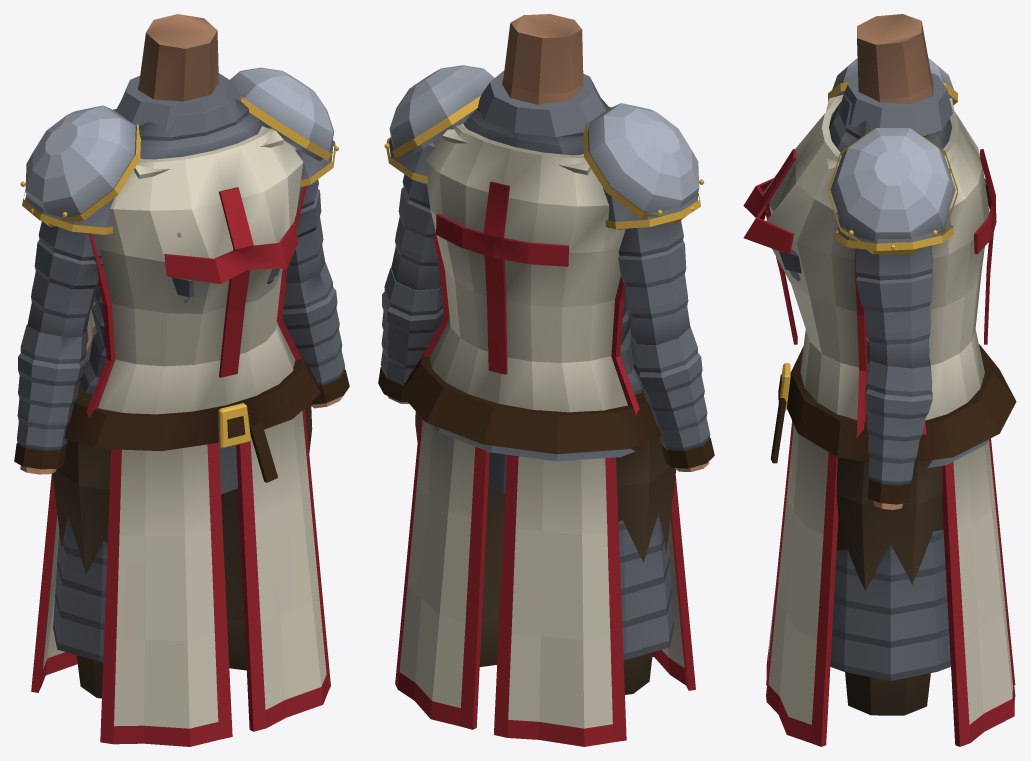
Rendered from a_surcoat_f.glb.
3 views of the same model, side by side, from view 1: azimuth 30°, elevation 25°; view 2: azimuth 150°, elevation 25°; view 3: azimuth 270°, elevation 25° (orthographic).
Parts seen in each view (by area): view 1: SurcoatF, PanelFR, PanelFL, ArmR_Spaulder, Belt, Neck, ArmR_Fore, Cross, ArmR_Upper, ArmL_Spaulder, Torso, LegR_Thigh (+6 smaller); view 2: SurcoatB, PanelBR, PanelBL, ArmR_Spaulder, Belt, Neck, ArmR_Fore, ArmR_Upper, ArmL_Spaulder, Cross, MailR, LegR_Thigh (+6 smaller); view 3: SurcoatF, PanelFL, PanelBL, MailL, ArmL_Spaulder, SurcoatB, LegL_Thigh, Belt, Neck, ArmL_Upper, ArmL_Fore, Cross (+3 smaller).
Part boxes in pixels (box(x1,y1,x2,y2)): SurcoatF: box(87, 128, 307, 418); PanelFR: box(100, 443, 232, 746); PanelFL: box(236, 408, 330, 731); ArmR_Spaulder: box(20, 105, 140, 234); Belt: box(64, 354, 320, 482); Neck: box(116, 14, 241, 132); ArmR_Fore: box(14, 324, 86, 474); Cross: box(164, 187, 297, 377); ArmR_Upper: box(27, 221, 103, 337); ArmL_Spaulder: box(230, 67, 338, 187); Torso: box(66, 99, 279, 447); LegR_Thigh: box(52, 439, 111, 698); SurcoatB: box(418, 124, 639, 415); PanelBR: box(494, 454, 626, 746); PanelBL: box(395, 416, 489, 729); ArmR_Spaulder: box(583, 103, 704, 229); Belt: box(400, 354, 661, 454); Neck: box(478, 14, 606, 137); ArmR_Fore: box(630, 327, 714, 471); ArmR_Upper: box(618, 219, 690, 345); ArmL_Spaulder: box(384, 65, 494, 184); Cross: box(436, 181, 568, 374); MailR: box(618, 513, 673, 659); LegR_Thigh: box(616, 437, 676, 694); SurcoatF: box(763, 94, 867, 437); PanelFL: box(766, 423, 838, 746); PanelBL: box(942, 439, 1015, 746); MailL: box(830, 530, 950, 680); ArmL_Spaulder: box(828, 128, 957, 254); SurcoatB: box(923, 108, 989, 435); LegL_Thigh: box(836, 457, 943, 715); Belt: box(770, 344, 1016, 463); Neck: box(839, 14, 952, 135); ArmL_Upper: box(855, 245, 932, 368); ArmL_Fore: box(865, 359, 932, 509); Cross: box(743, 149, 996, 344).
Bounding box in the file's own units: 0.5604 × 1.08 × 0.4031.
